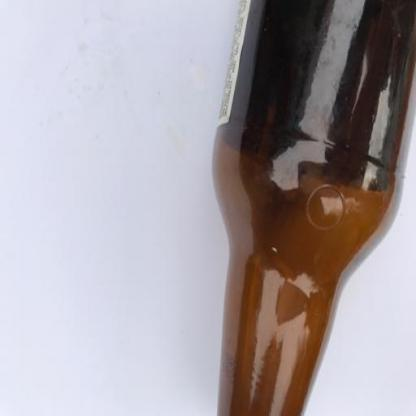trash: (213, 1, 415, 414)
